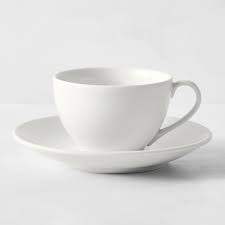cup: (51, 68, 202, 158)
